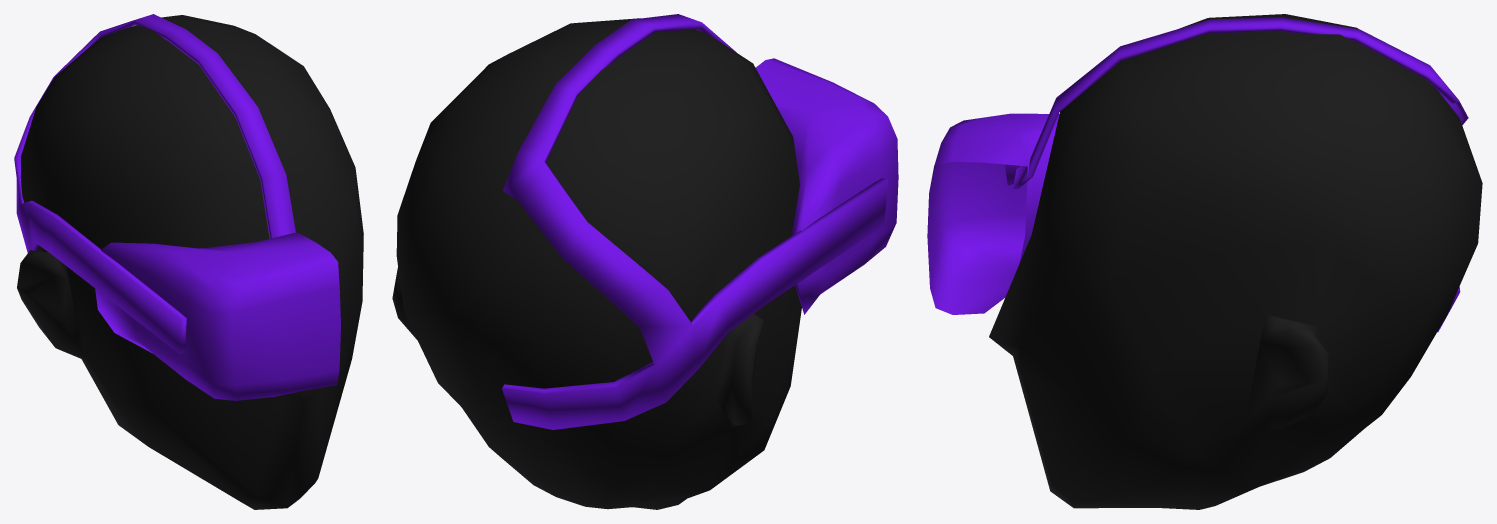
The model's file is s_hmd.glb.
The picture shows the model from 3 angles, left to right: view 1: azimuth 30°, elevation 25°; view 2: azimuth 150°, elevation 25°; view 3: azimuth 270°, elevation 25°; orthographic projection. The views are drawn at different scales.
Visible parts, largest first — view 1: Head, Headset, Strap; view 2: Head, Strap, Headset; view 3: Head, Headset, Strap.
Boxes of the visible parts, x1=… form: Head: x1=17, y1=15, x2=363, y2=509; Headset: x1=95, y1=232, x2=340, y2=400; Strap: x1=14, y1=14, x2=295, y2=354; Head: x1=392, y1=18, x2=801, y2=509; Strap: x1=502, y1=14, x2=888, y2=429; Headset: x1=756, y1=58, x2=898, y2=314; Head: x1=989, y1=14, x2=1482, y2=509; Headset: x1=927, y1=113, x2=1059, y2=314; Strap: x1=1005, y1=17, x2=1468, y2=332.
Size of the model in its own units: 0.1776 by 0.2316 by 0.247.
